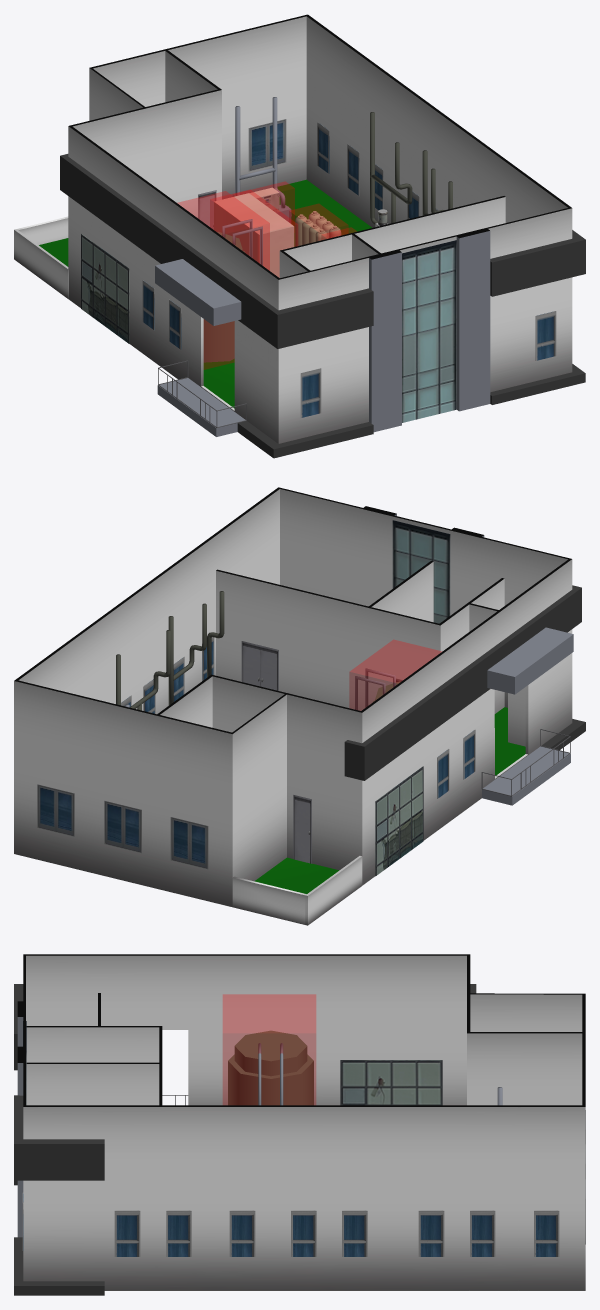
The model's file is soulbrain_T2-13-2F.glb.
3 renders of one model, top to bottom at view 1: azimuth 30°, elevation 25°; view 2: azimuth 150°, elevation 25°; view 3: azimuth 270°, elevation 25°, orthographic. The views are drawn at different scales.
Parts seen in each view (by area): view 1: T2-13-2F (1), Rectangle003, equipment-T2-13-2F-008, equipment-T2-13-2F-003, Cylinder194, Line750, equipment-T2-13-2F-004, Cylinder199, Line749, equipment-T2-13-2F-002, Cylinder195, Group232; view 2: T2-13-2F (1), Rectangle003, equipment-T2-13-2F-008, Box1954, Line750; view 3: T2-13-2F (1), Rectangle003, equipment-T2-13-2F-008, Cylinder199, Group232.
Part boxes in pixels (box(x1,y1,x2,y2)): T2-13-2F (1): box(14, 14, 585, 458); Rectangle003: box(279, 196, 505, 277); equipment-T2-13-2F-008: box(178, 191, 269, 369); equipment-T2-13-2F-003: box(210, 189, 297, 277); Cylinder194: box(214, 193, 294, 277); Line750: box(370, 112, 452, 225); equipment-T2-13-2F-004: box(289, 204, 348, 245); Cylinder199: box(203, 231, 244, 362); Line749: box(235, 97, 285, 208); equipment-T2-13-2F-002: box(233, 181, 294, 221); Cylinder195: box(295, 211, 341, 246); Group232: box(222, 209, 387, 265); T2-13-2F (1): box(14, 487, 585, 925); Rectangle003: box(216, 561, 525, 746); equipment-T2-13-2F-008: box(349, 640, 441, 710); Box1954: box(241, 641, 402, 863); Line750: box(116, 591, 224, 710); T2-13-2F (1): box(14, 954, 585, 1295); Rectangle003: box(26, 993, 162, 1105); equipment-T2-13-2F-008: box(223, 994, 315, 1104); Cylinder199: box(228, 1030, 313, 1105); Group232: box(258, 1043, 283, 1105).
Bounding box in the file's own units: 16.15 × 7.95 × 22.4.
36 materials, 24 textured.
